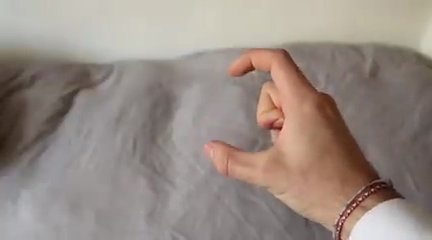C: (193, 36, 384, 213)
